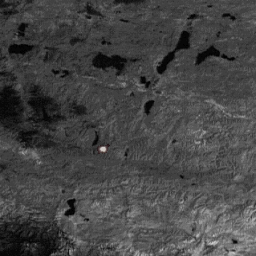Target: (98, 143, 108, 153)
